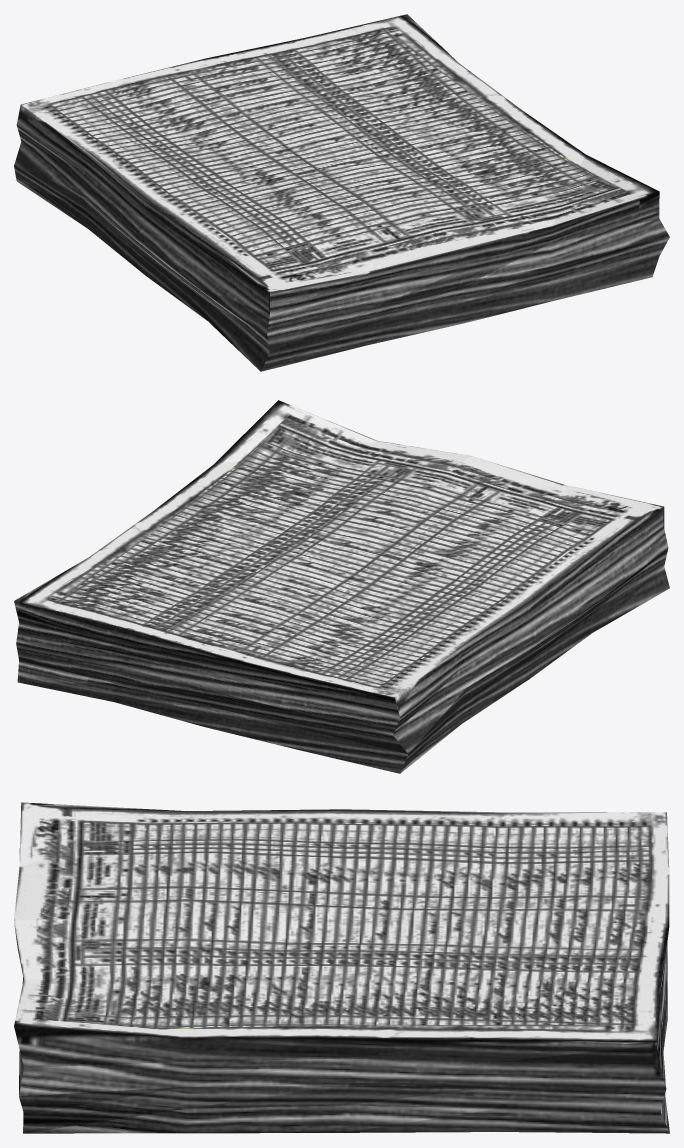
File: PaperPile.FBX
3 views of the same model, one above another, from view 1: azimuth 30°, elevation 25°; view 2: azimuth 150°, elevation 25°; view 3: azimuth 270°, elevation 25° (orthographic). The views are drawn at different scales.
Visible parts, largest first — view 1: Box149; view 2: Box149; view 3: Box149.
Part boxes in pixels (bbox=[...]): Box149: bbox=[14, 14, 669, 371]; Box149: bbox=[14, 400, 669, 773]; Box149: bbox=[14, 802, 669, 1133].
Size of the model in its own units: 147 by 31.76 by 165.
1 material, 1 textured.
